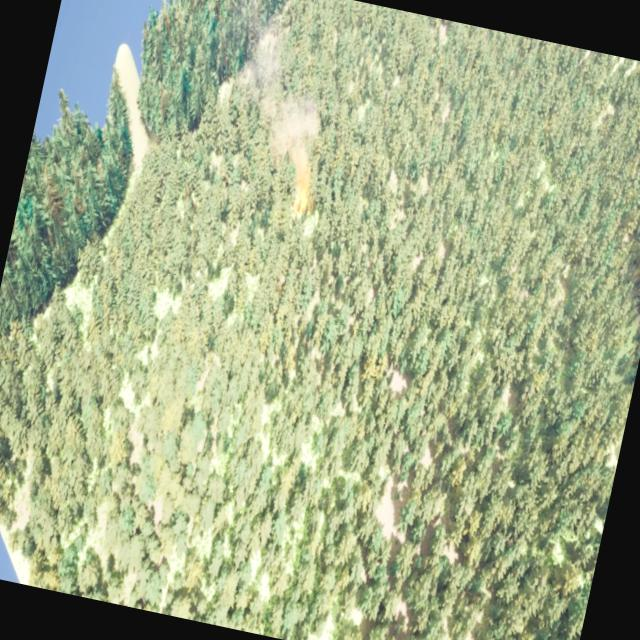fire: (288, 166, 318, 217)
smoke: (239, 41, 334, 170)
